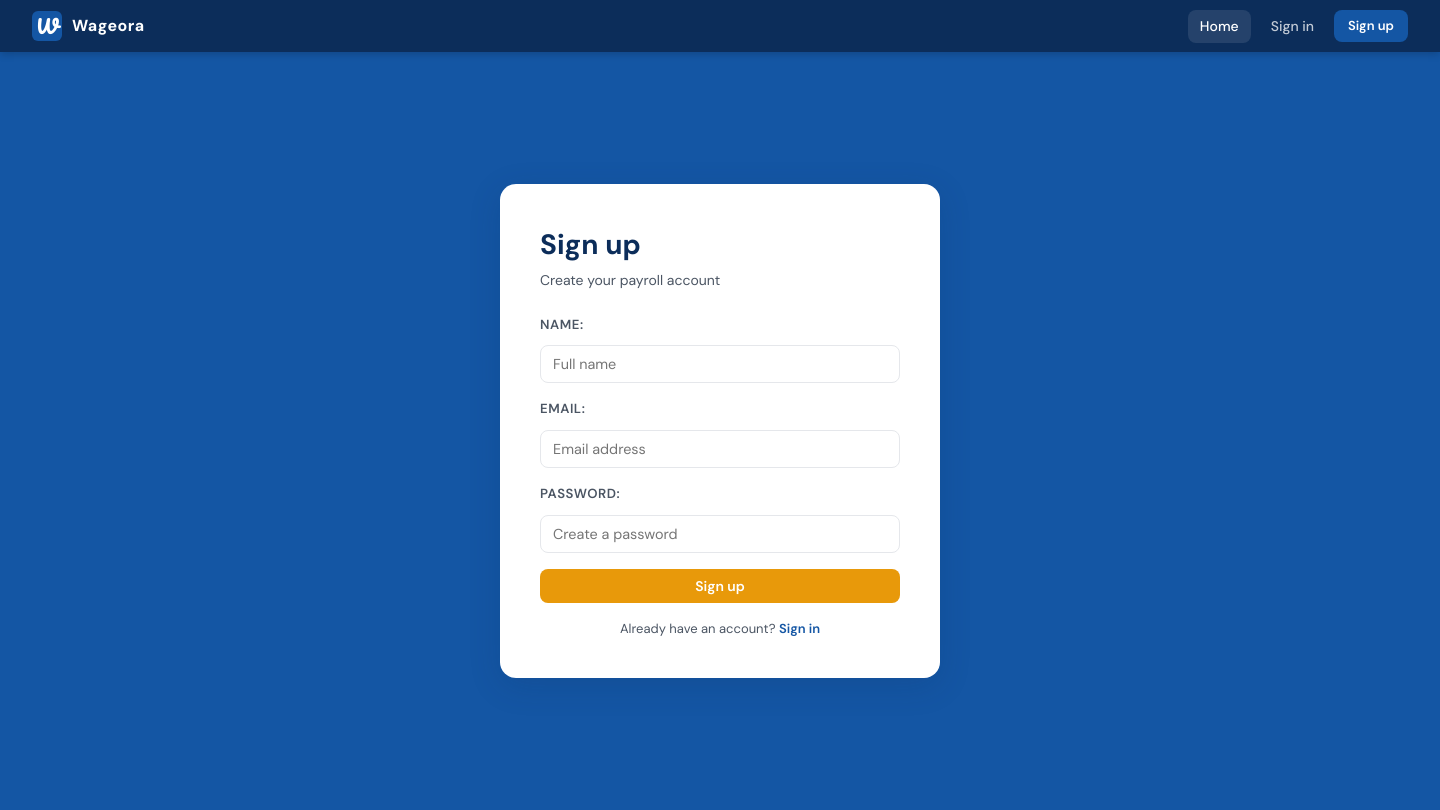
Test case: SignUpPage › shows email error for invalid email
This screenshot has width=1440, height=810.
Type "Valid Name" into the field with placeholder "Full name" at (720, 364), box [540,345,900,383]
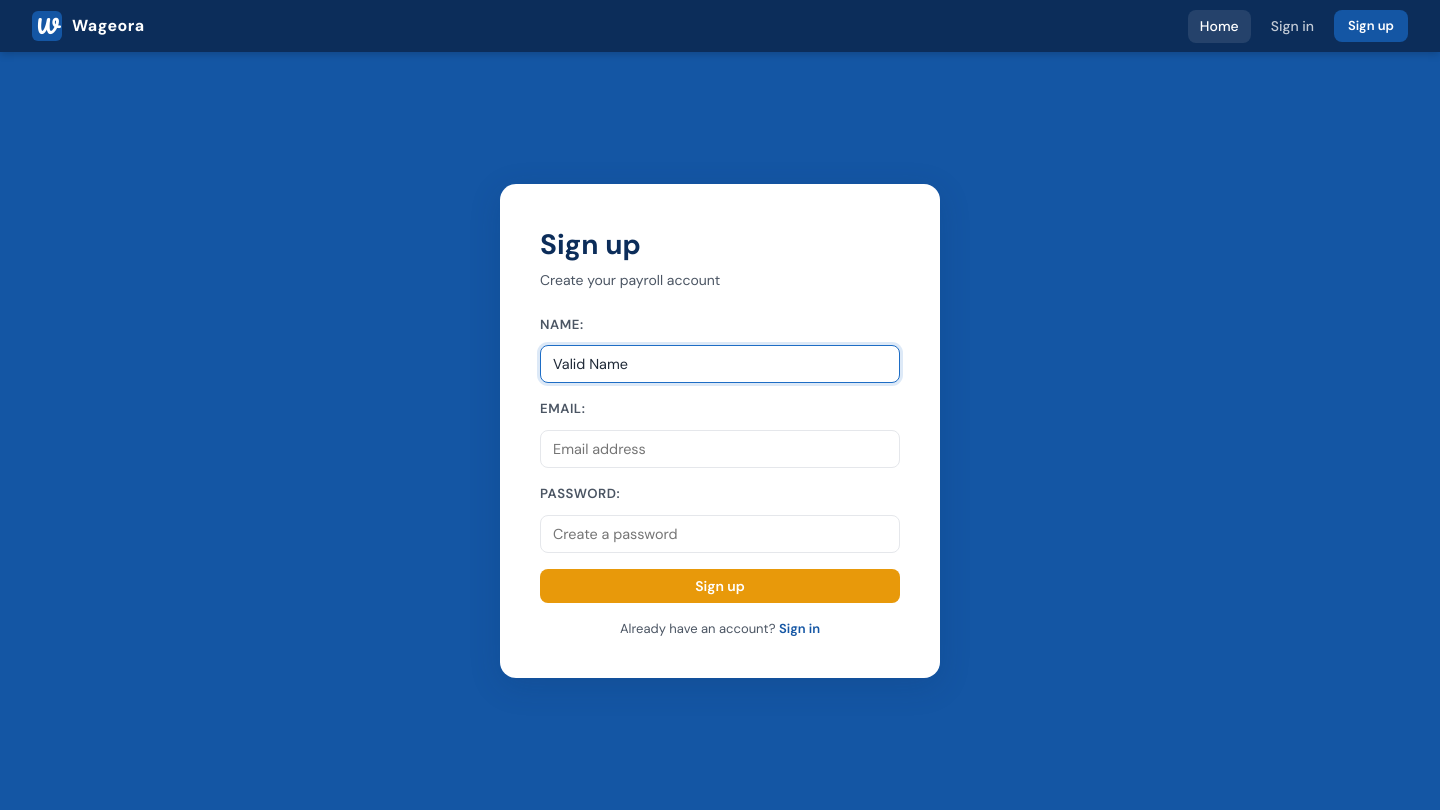
Type "notanemail" into the field with placeholder "Email address" at (720, 449), box [540,430,900,468]
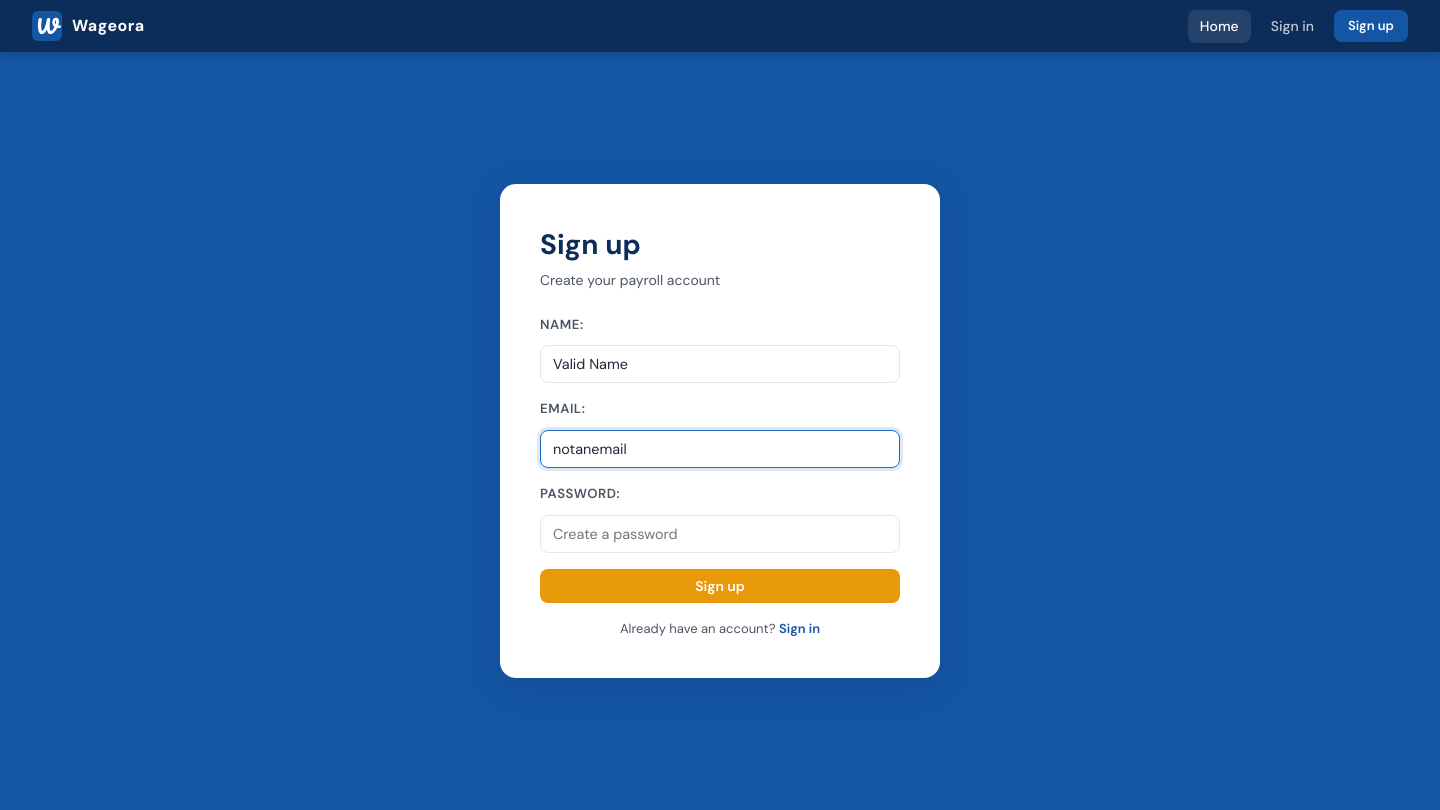
Type "pass123" into the password field with placeholder "Create a password" at (720, 534), box [540,515,900,553]
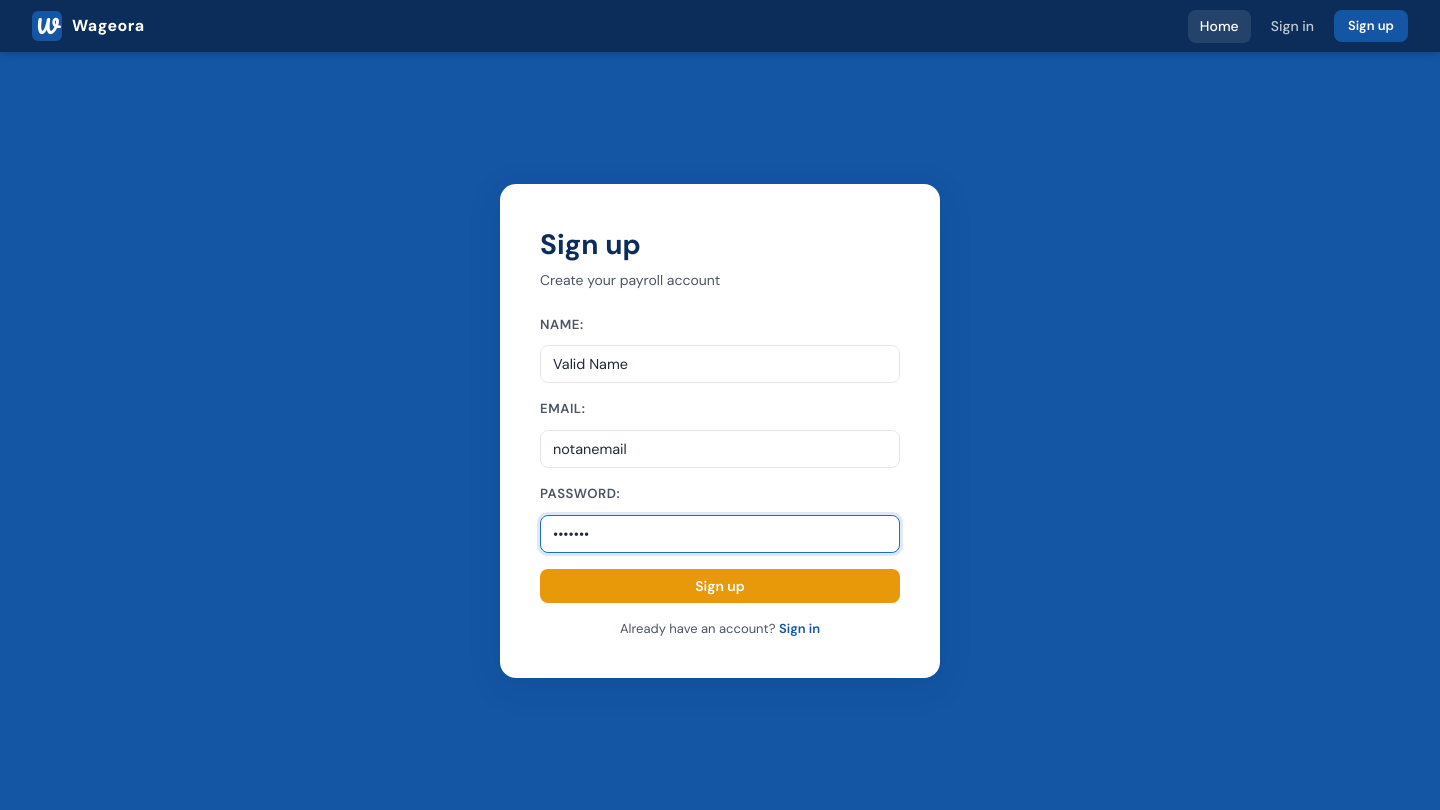
Click the button "Sign up" at (720, 586), box [540,569,900,603]
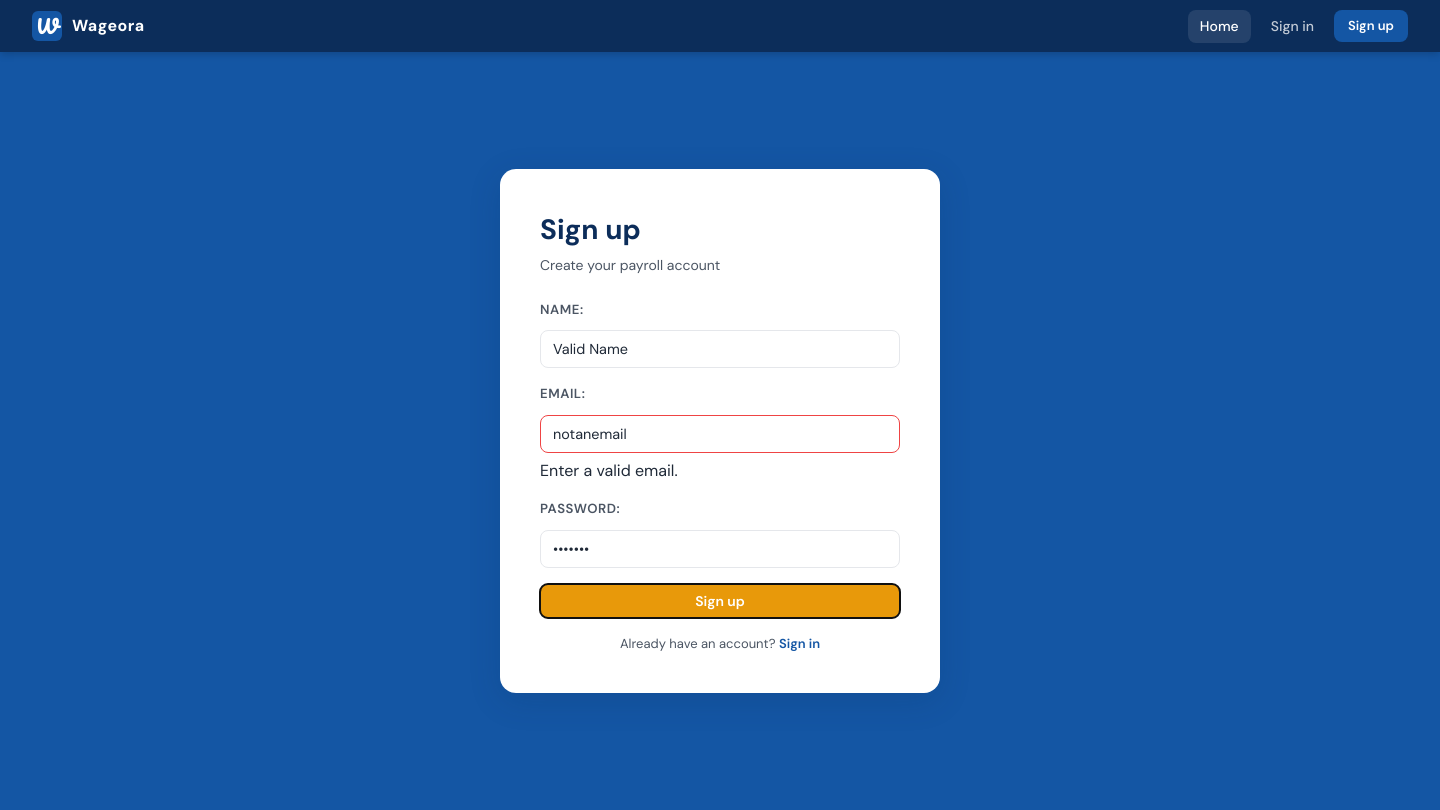
Result: the text "Enter a valid email." is shown at [540,460,678,481]
